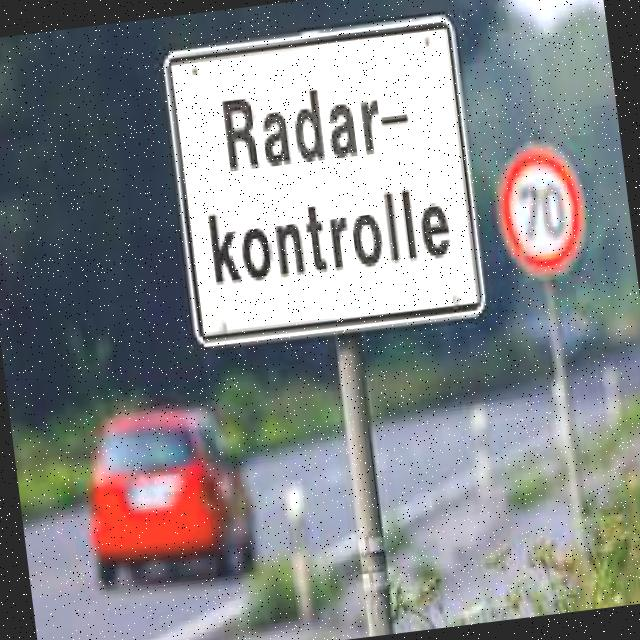Ograniczenie predkosci do 70: (487, 136, 592, 281)
